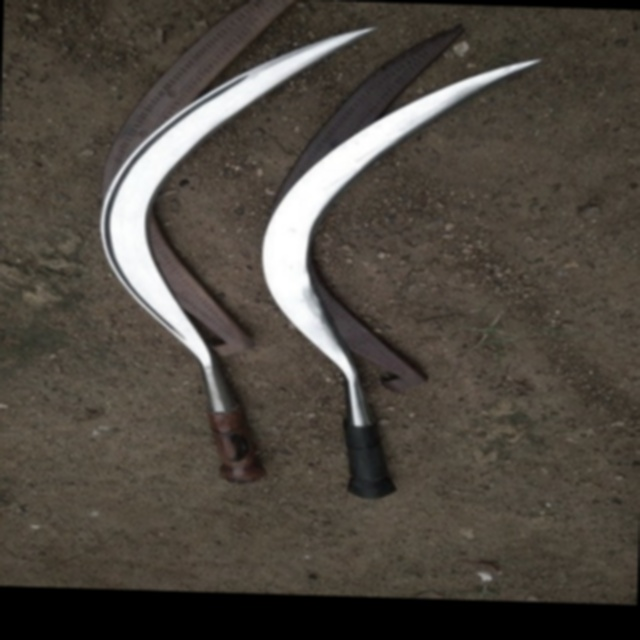Sharp-Object: (85, 19, 374, 494), (260, 43, 553, 511)
